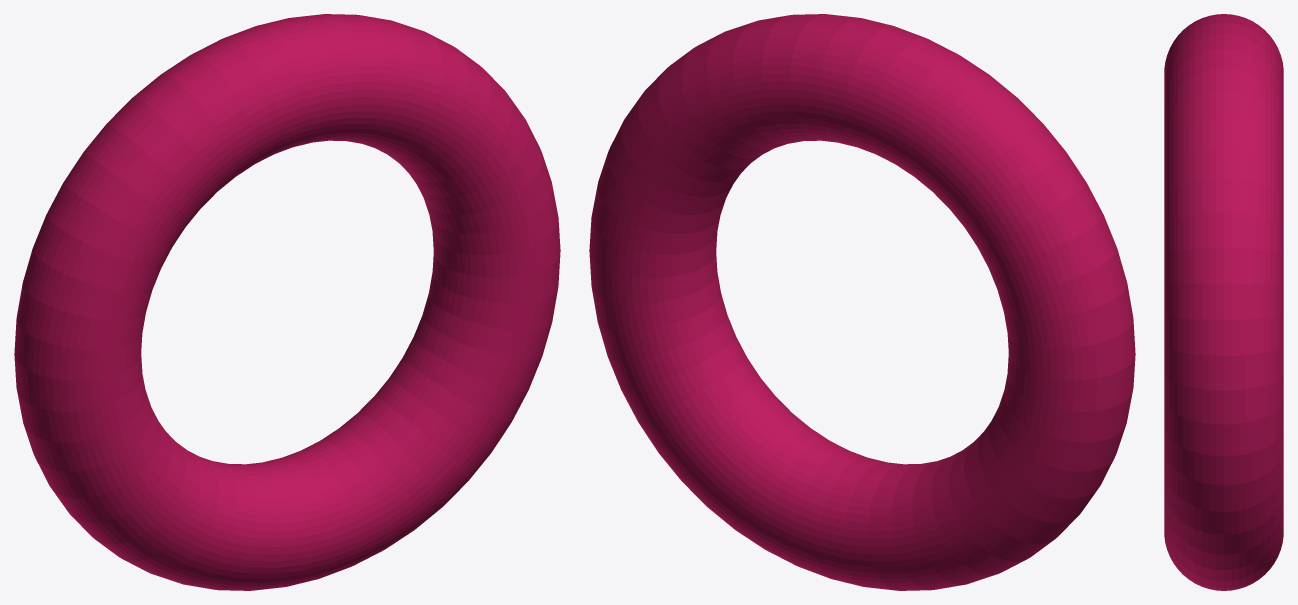
3 views of the same model, side by side, from view 1: azimuth 30°, elevation 25°; view 2: azimuth 150°, elevation 25°; view 3: azimuth 270°, elevation 25° (orthographic). The views are drawn at different scales.
Parts seen in each view (by area): view 1: world; view 2: world; view 3: world.
Part boxes in pixels (left/top/right/bottom): world: left=14, top=14, right=560, bottom=590; world: left=589, top=14, right=1135, bottom=590; world: left=1164, top=14, right=1283, bottom=590.
Size of the model in its own units: 35.33 by 35.26 by 7.32.
